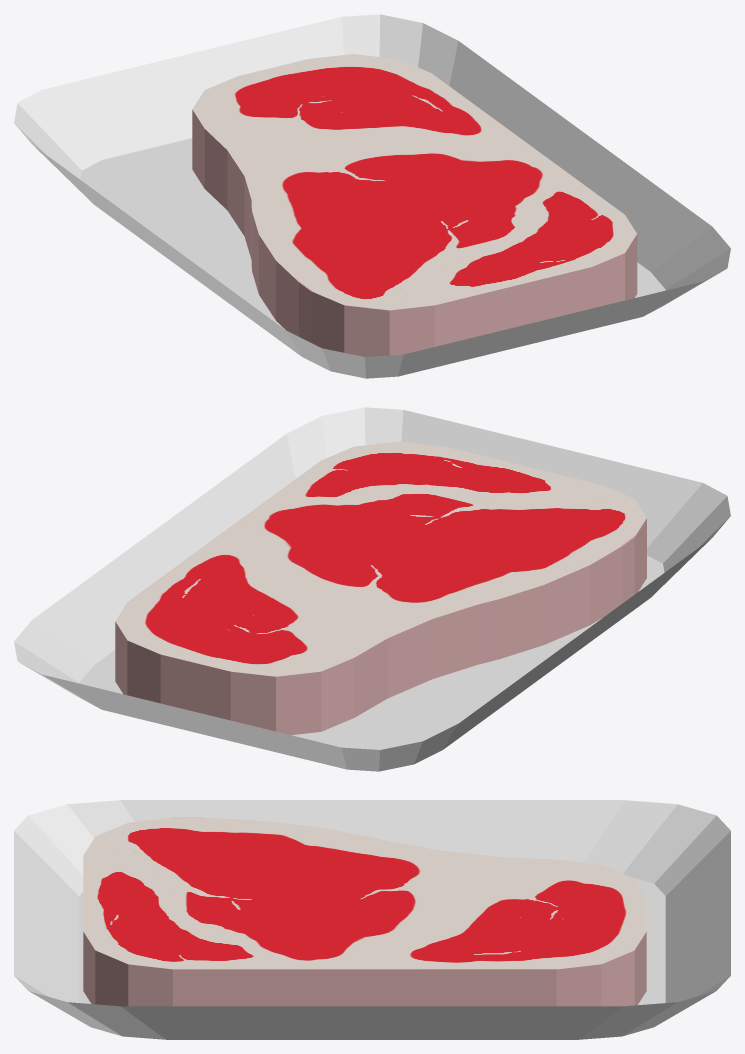
Rendered from Daging.fbx.
3 renders of one model, top to bottom at view 1: azimuth 30°, elevation 25°; view 2: azimuth 150°, elevation 25°; view 3: azimuth 270°, elevation 25°, orthographic.
Visible parts, largest first — view 1: Cube.002; view 2: Cube.002; view 3: Cube.002.
Part boxes in pixels (bbox=[...]): Cube.002: bbox=[14, 14, 730, 378]; Cube.002: bbox=[14, 407, 730, 771]; Cube.002: bbox=[14, 800, 730, 1039].
Size of the model in its own units: 272 by 36.65 by 399.
Materials: 2 (1 with a texture image).
